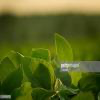Soyabean leaf: (21, 57, 54, 91), (0, 64, 24, 94), (0, 55, 17, 86)
